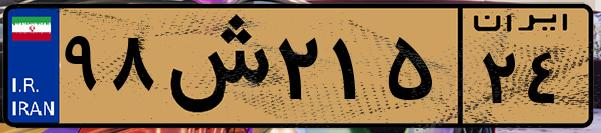1: (330, 28, 385, 110)
2: (270, 28, 330, 110), (475, 38, 525, 113)
4: (525, 38, 570, 115)
5: (385, 28, 445, 110)
8: (110, 28, 158, 98)
9: (57, 26, 110, 100)
ش: (158, 12, 270, 120)
